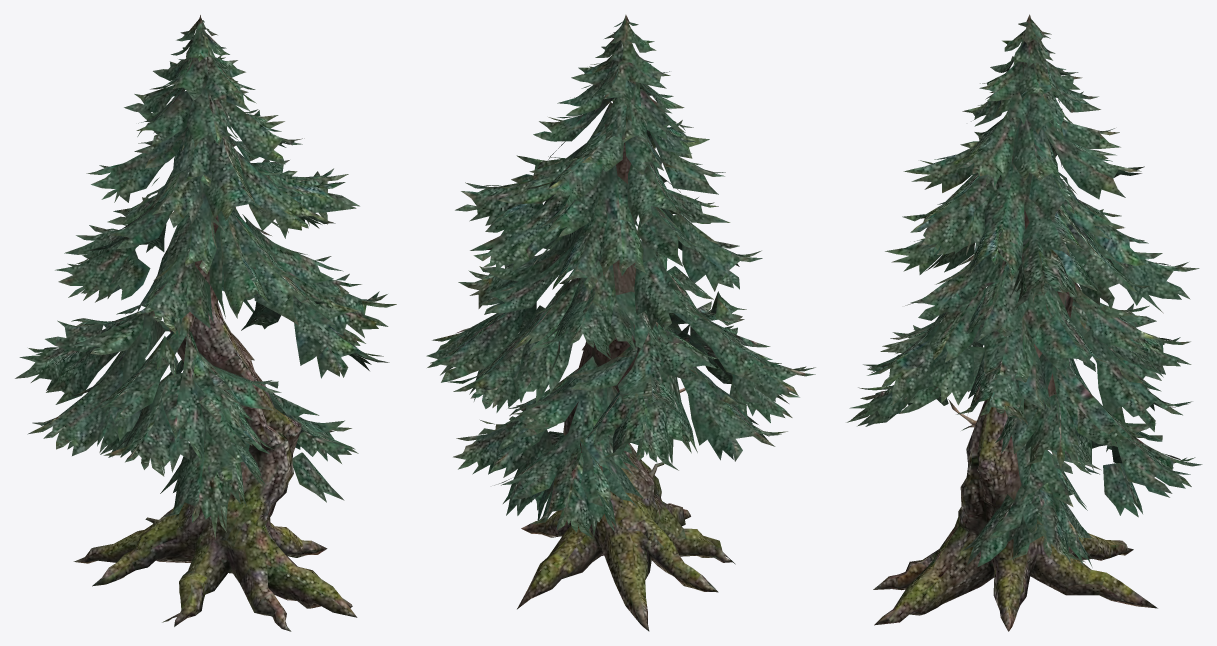
File: tree_pine_tall.glb
The picture shows the model from 3 angles, left to right: view 1: azimuth 30°, elevation 25°; view 2: azimuth 150°, elevation 25°; view 3: azimuth 270°, elevation 25°; orthographic projection.
Parts seen in each view (by area): view 1: tripo_node_61047050-f181-4371-9a8b-4992b3705c36; view 2: tripo_node_61047050-f181-4371-9a8b-4992b3705c36; view 3: tripo_node_61047050-f181-4371-9a8b-4992b3705c36.
Part boxes in pixels (x1,y1,x2,y2): tripo_node_61047050-f181-4371-9a8b-4992b3705c36: [15, 15, 396, 631]; tripo_node_61047050-f181-4371-9a8b-4992b3705c36: [426, 14, 815, 631]; tripo_node_61047050-f181-4371-9a8b-4992b3705c36: [846, 14, 1202, 631].
Bounding box in the file's own units: 0.6323 × 0.9995 × 0.565.
1 material, 1 textured.
